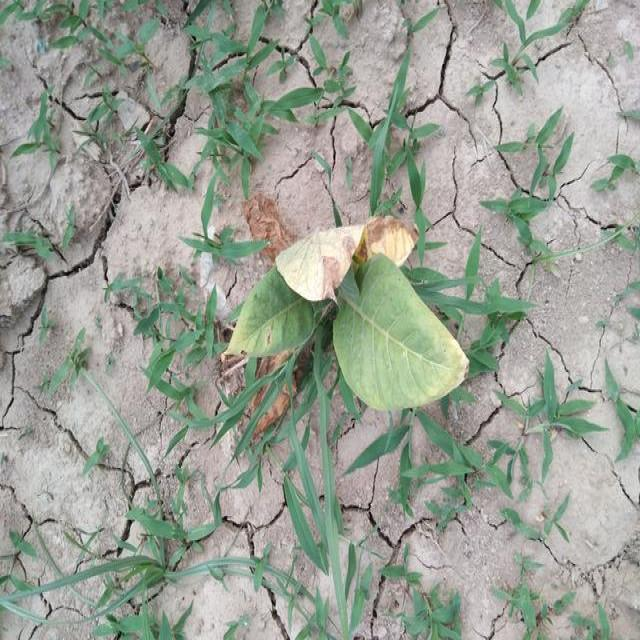crop: (232, 207, 468, 409)
